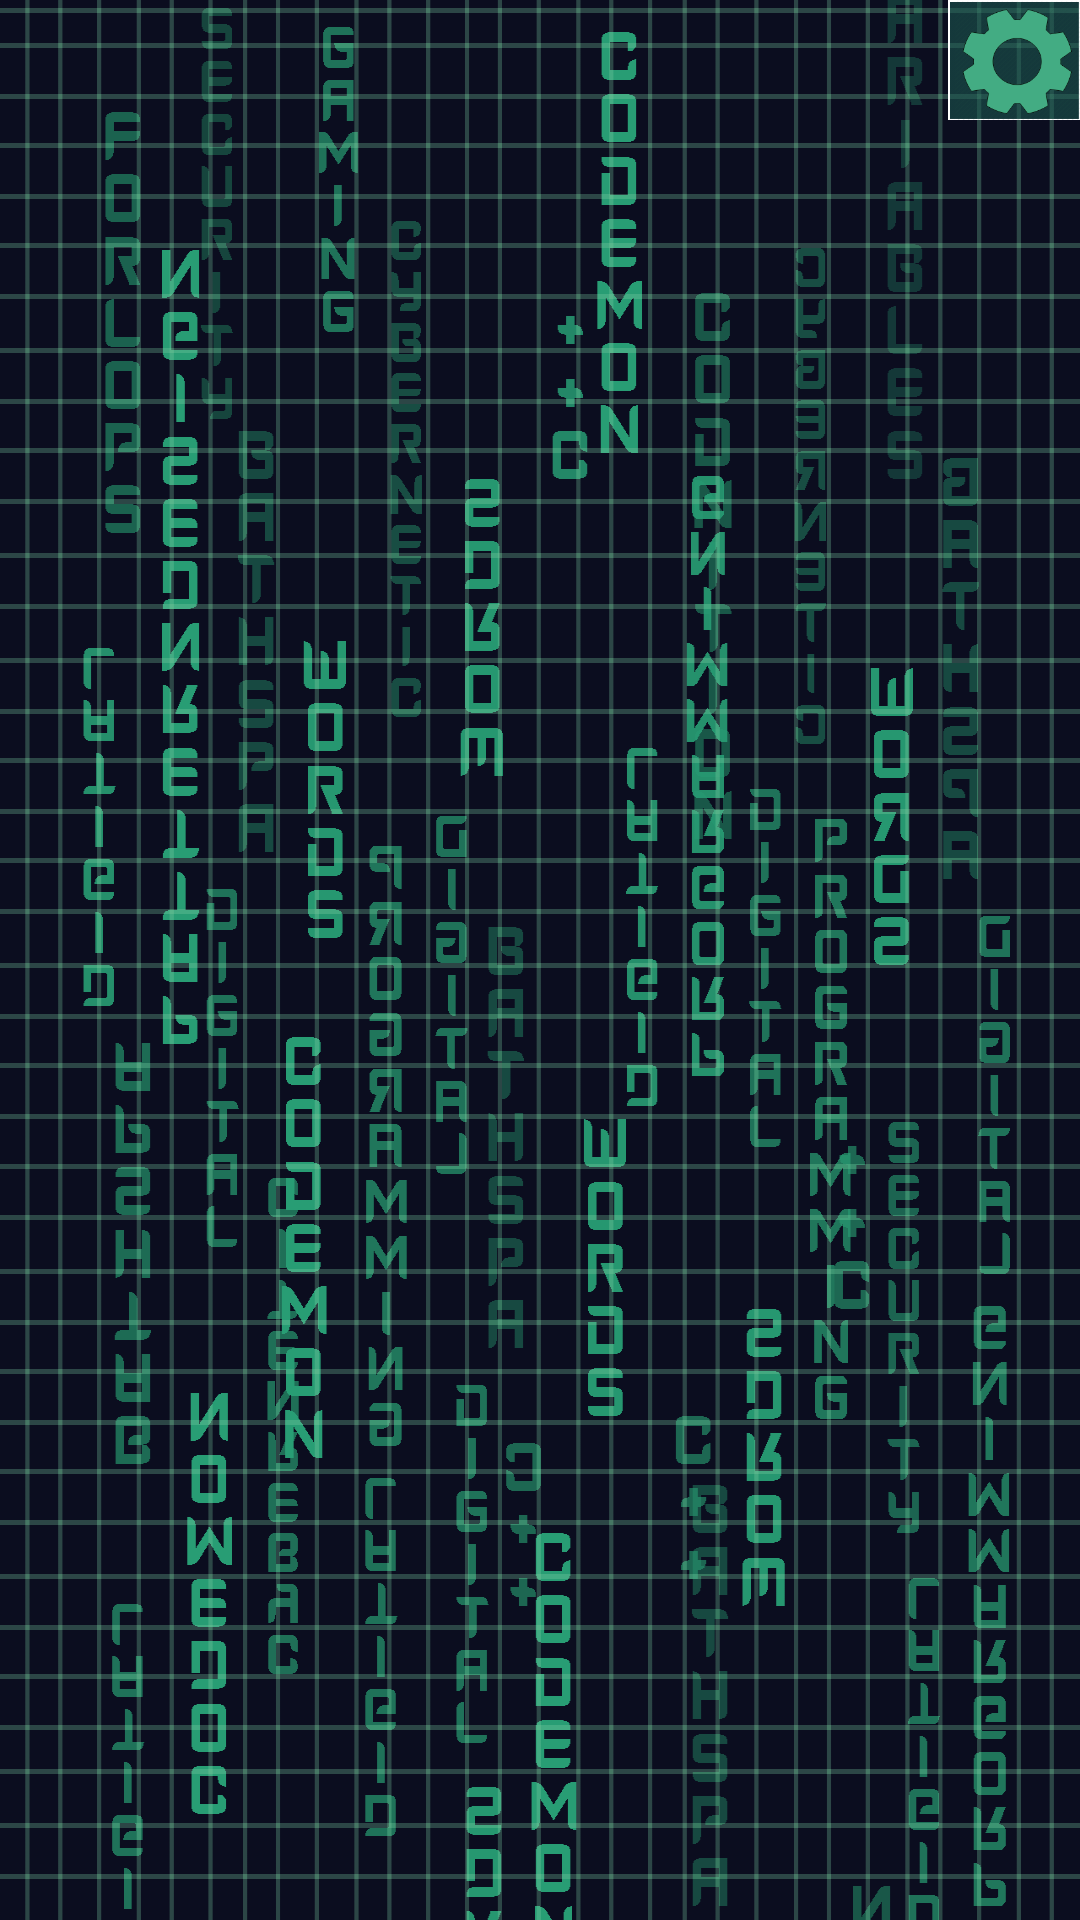

Icons on this 1080×1920 Android screen, each with the point to tap as (x,y):
settingsicon: (1014,60)
